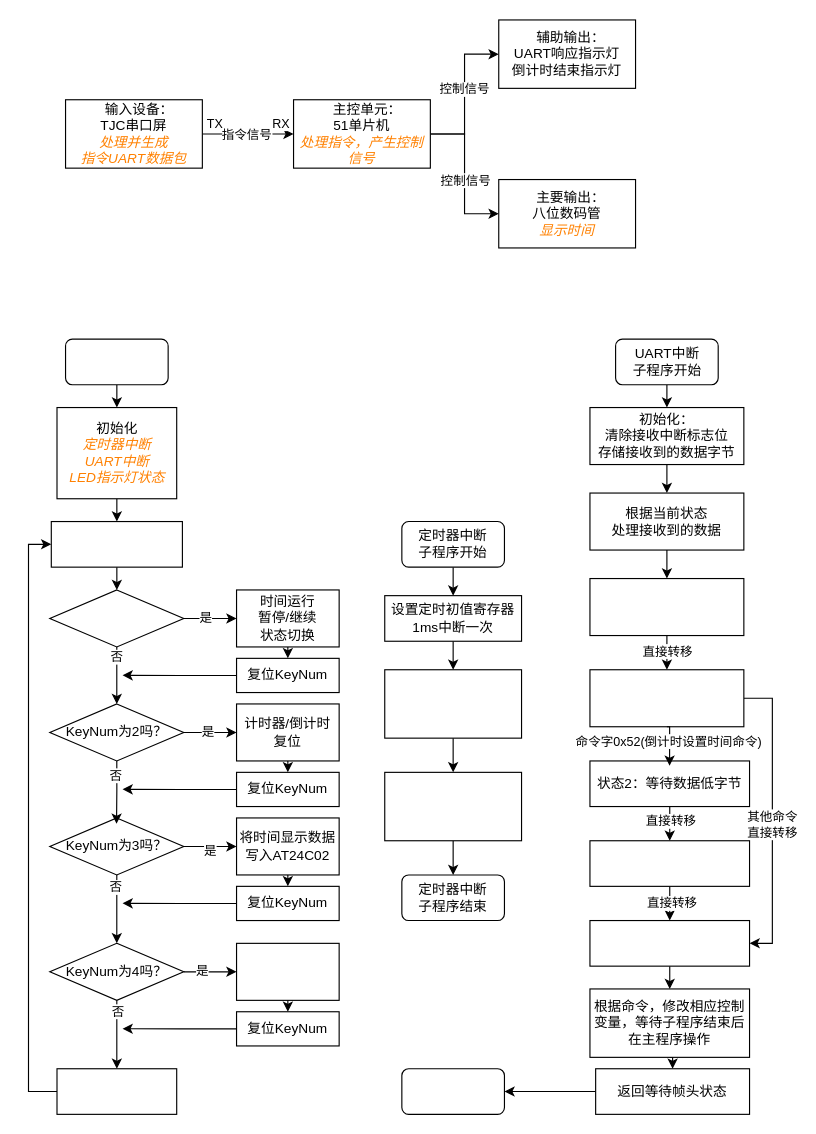
Some shapes in this 816 by 1134 pixel diagram are drawn without their labels. Here are the shapes that lost their labels. From the top down, the centre of each, then its label:
At point 116,361: "主程序开始".
At point 116,543: "处理KeyNum 命令变量".
At point 116,618: "KeyNum为1吗？".
At point 666,606: "状态0：等待正确的帧头 0x05".
At point 453,703: "每2ms根据 时间缓存数据 刷新数码管显示".
At point 666,698: "状态1：等待命令字".
At point 453,806: "每10ms 检查定时器数据进位 倒计时结束与否".
At point 669,863: "状态3：等待数据高字节".
At point 669,942: "状态4：等待正确的帧尾 0x26".
At point 287,971: "读出AT24C02 的时间数据".
At point 116,1091: "更新时间显示缓存".
At point 452,1091: "UART中断 子程序结束".
